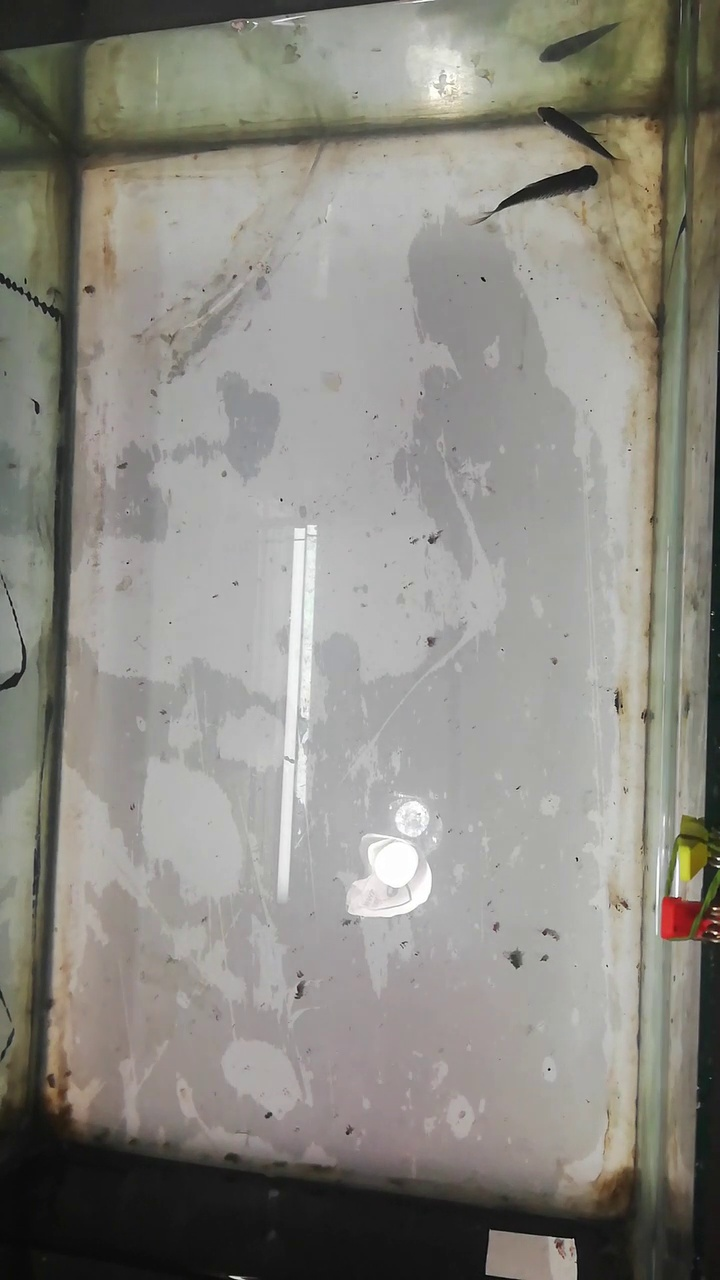fish1: (477, 164, 598, 226)
fish2: (536, 99, 621, 168)
